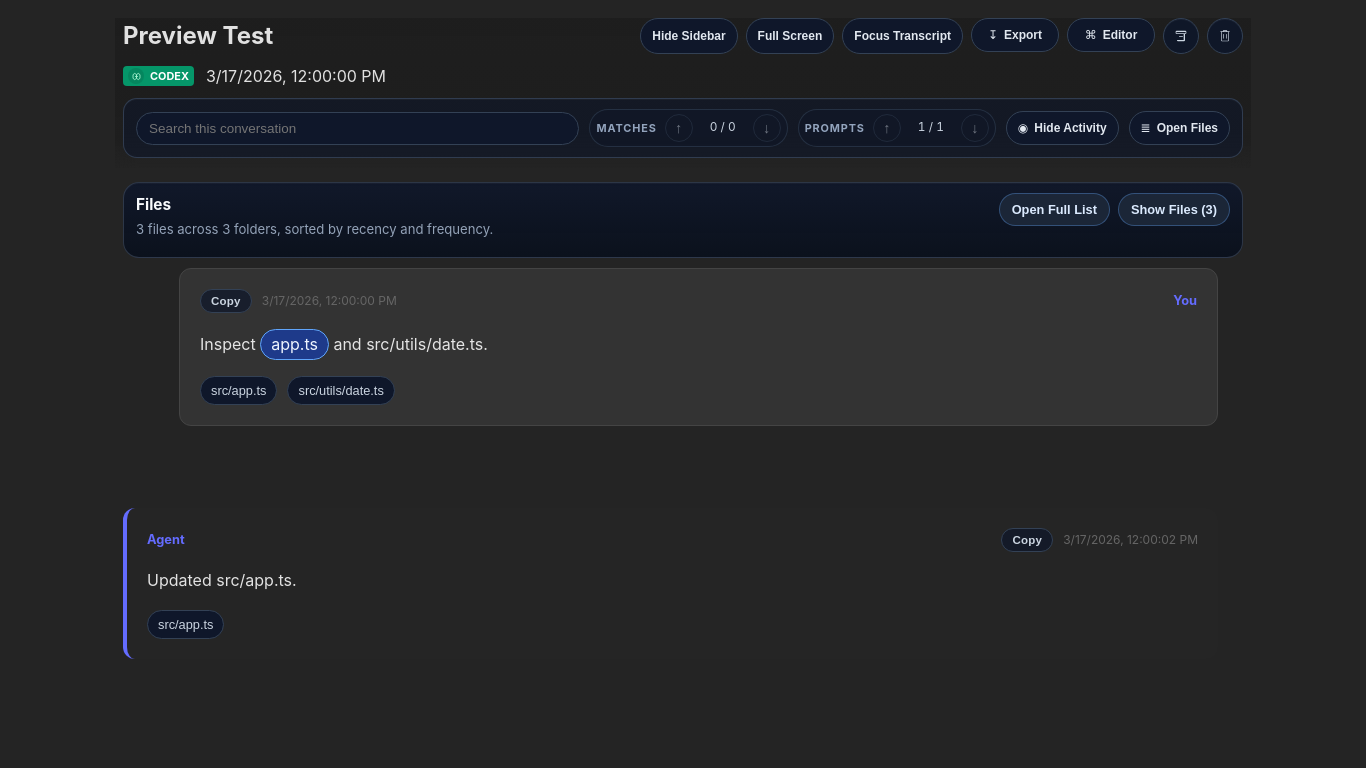
Test case: ConversationDetail file preview › shows a files panel grouped by folder with source badges
Click the button "Show Files (3)": [1174, 210] box [1118, 193, 1230, 226]
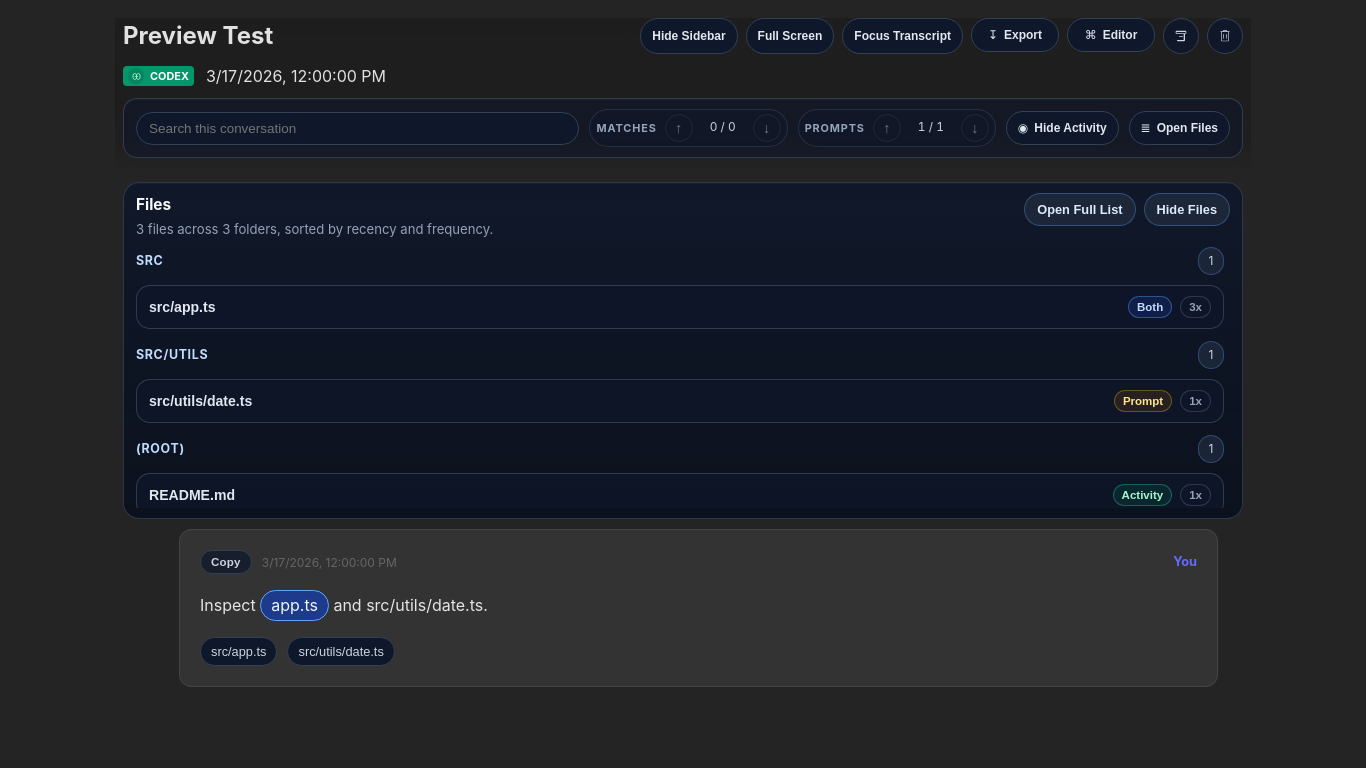
Now the text "src" is shown, box [136, 252, 164, 270]
Now the text "(root)" is shown, box [136, 440, 185, 458]
Now the text "Both" is shown, box [1128, 296, 1172, 318]
Click the button "src/app.ts Both 3x": [182, 307] box [136, 285, 1224, 329]
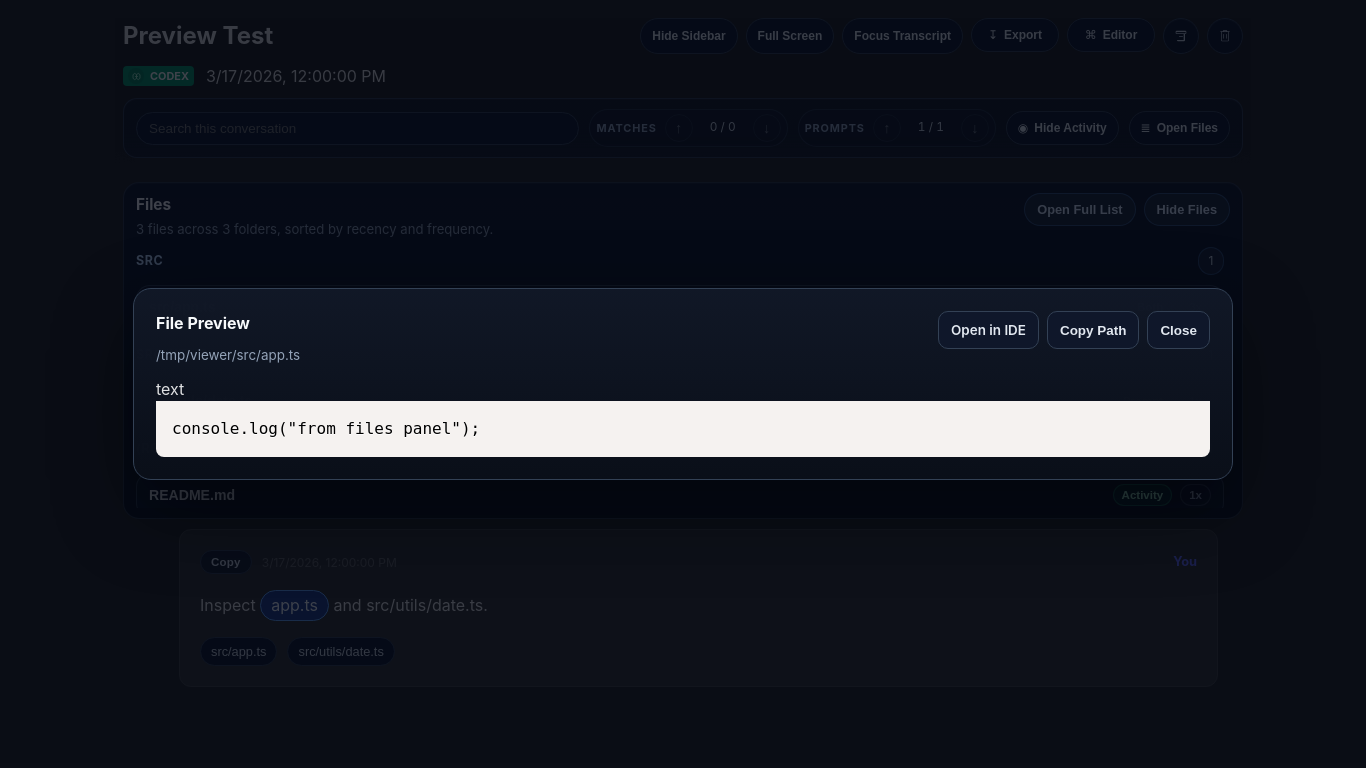
Now the dialog "File Preview" is shown, box [133, 288, 1233, 480]
Now the text "console.log(\"from files panel\");" is shown, box [172, 419, 480, 438]
